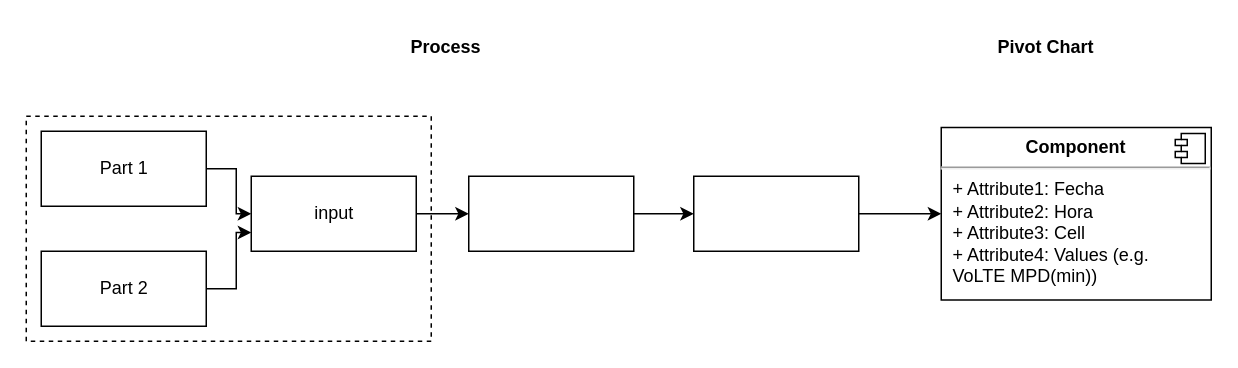
Some shapes in this 1238 by 368 pixel diagram are drawn without their labels. Here are the shapes that lost their labels. From the top down, the centre of each, then its label:
At (550,213): "Formulas".
At (775,213): "output".
